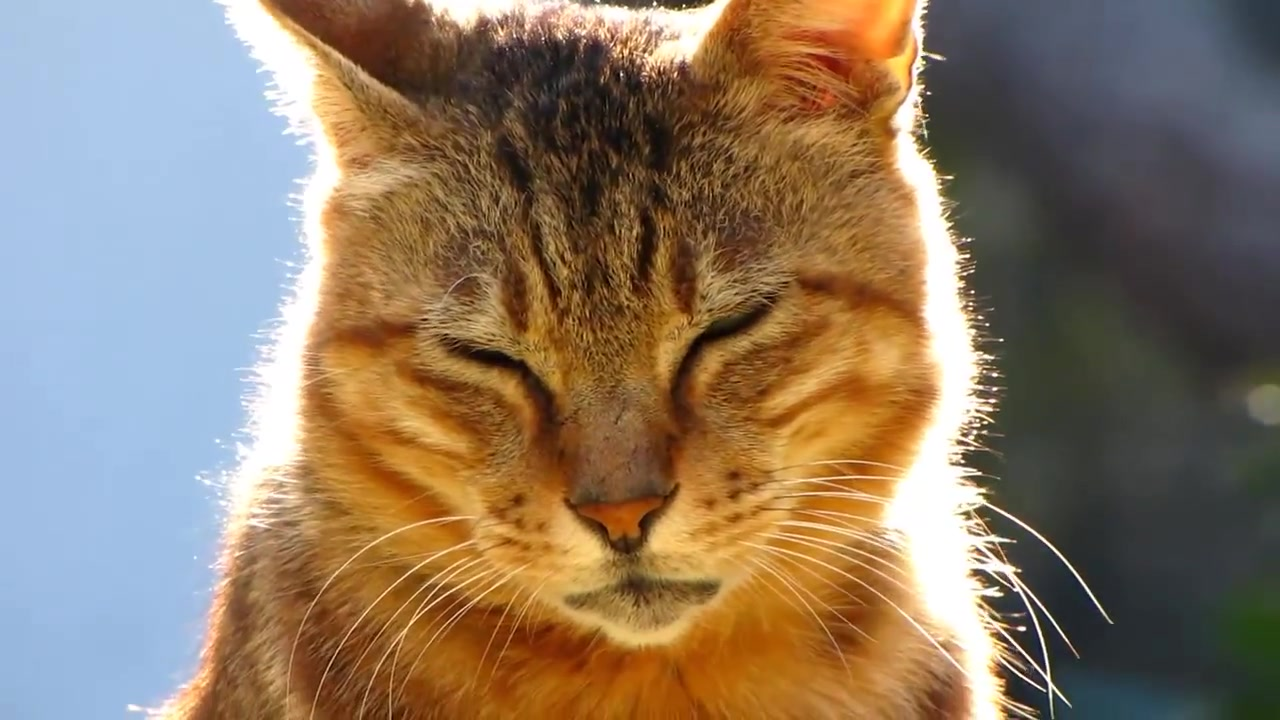cat: (150, 4, 1008, 720)
